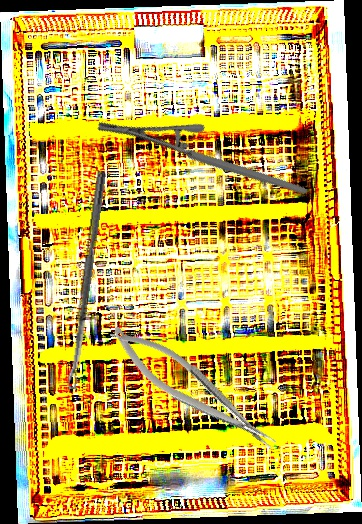Needle Holder: (95, 65, 308, 253), (102, 312, 283, 467)
Surgical Spoon: (65, 170, 107, 390)
